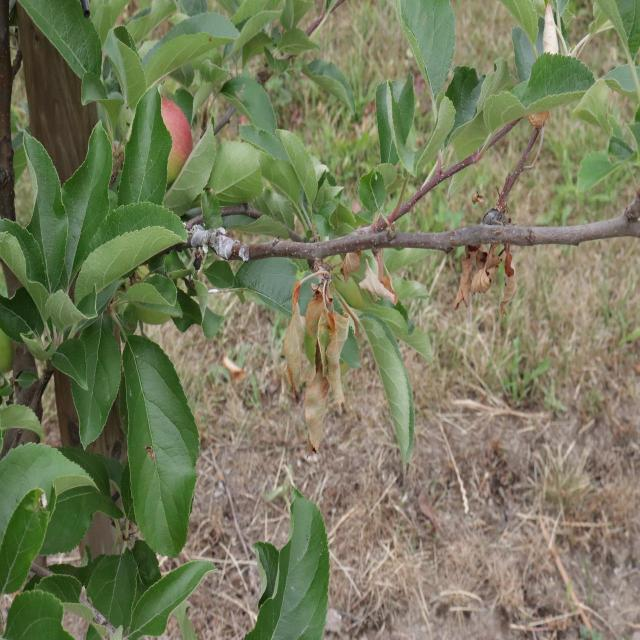-FireBlight-: (290, 271, 362, 400), (462, 238, 514, 310), (358, 260, 402, 312)
